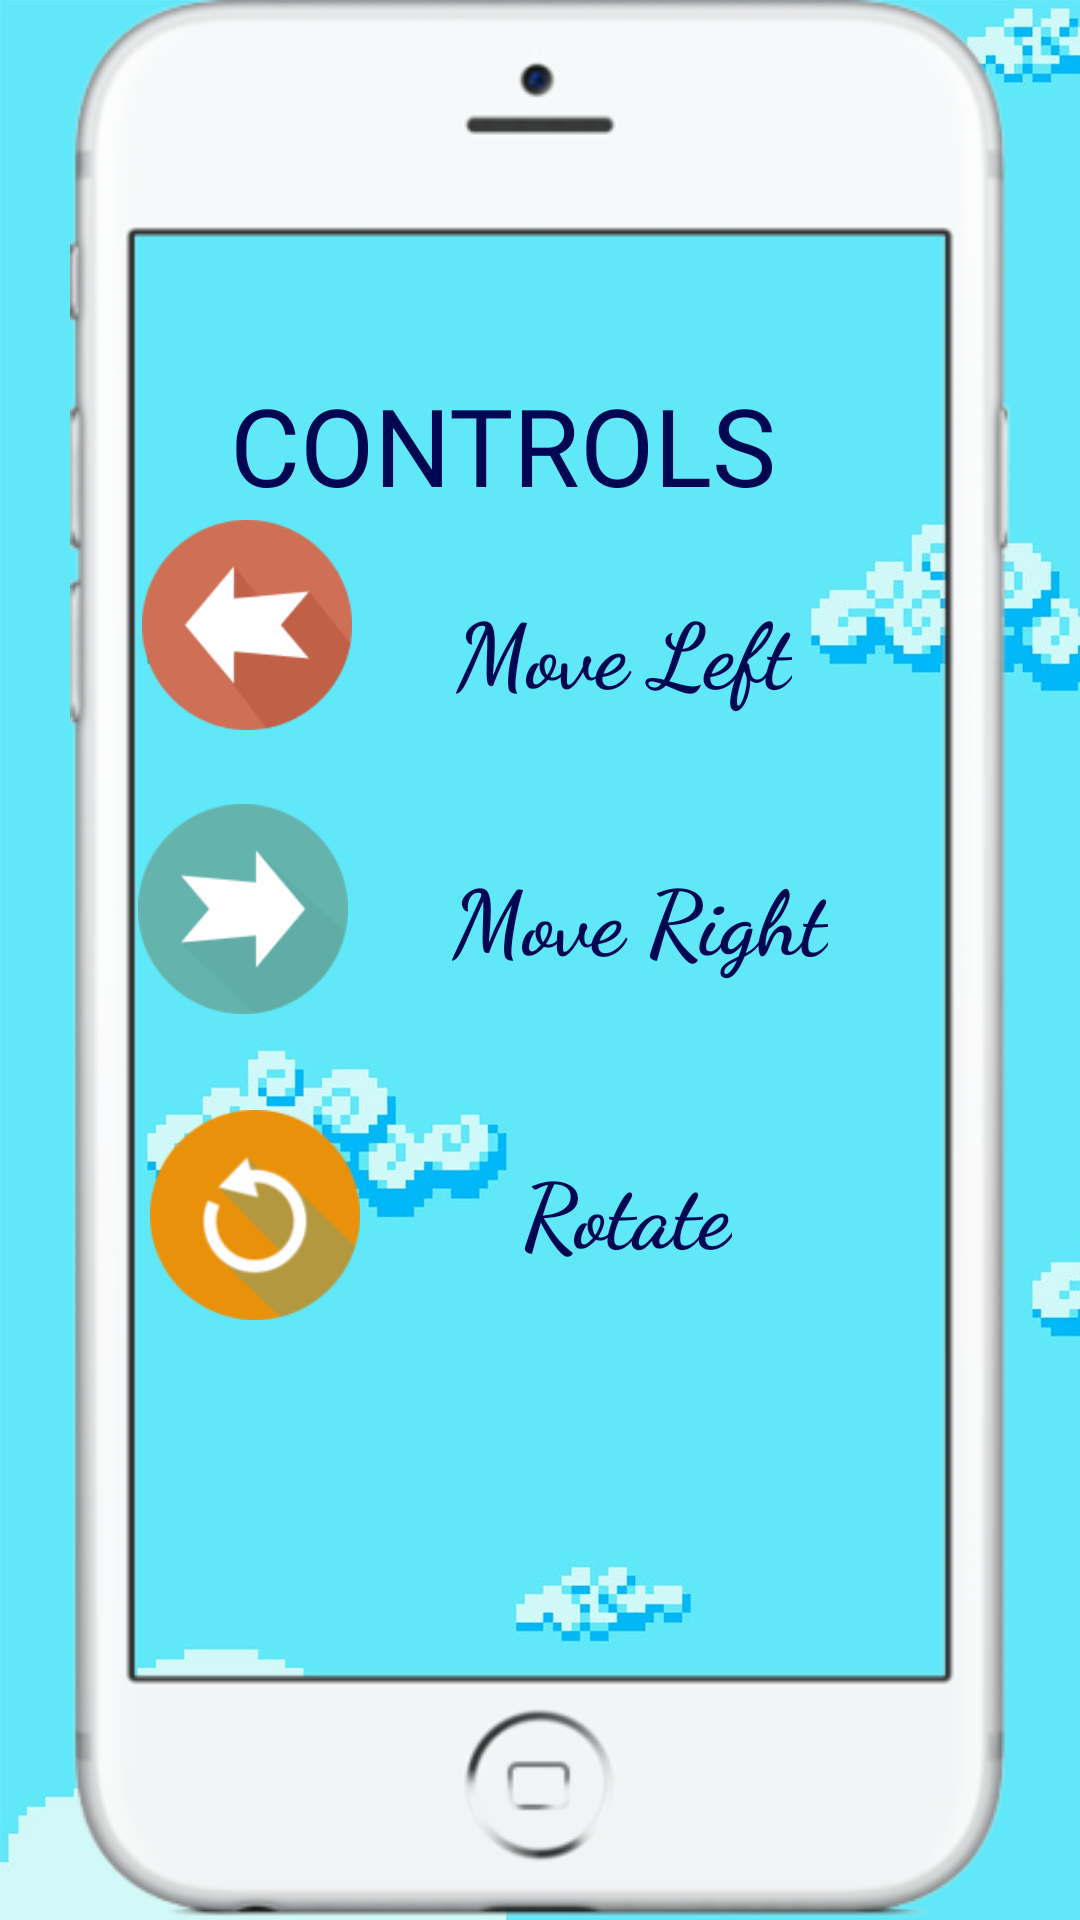

Icon click points for this 1080px×1920px phone screenshot, format point (x, y):
rotate: point (255, 1215)
